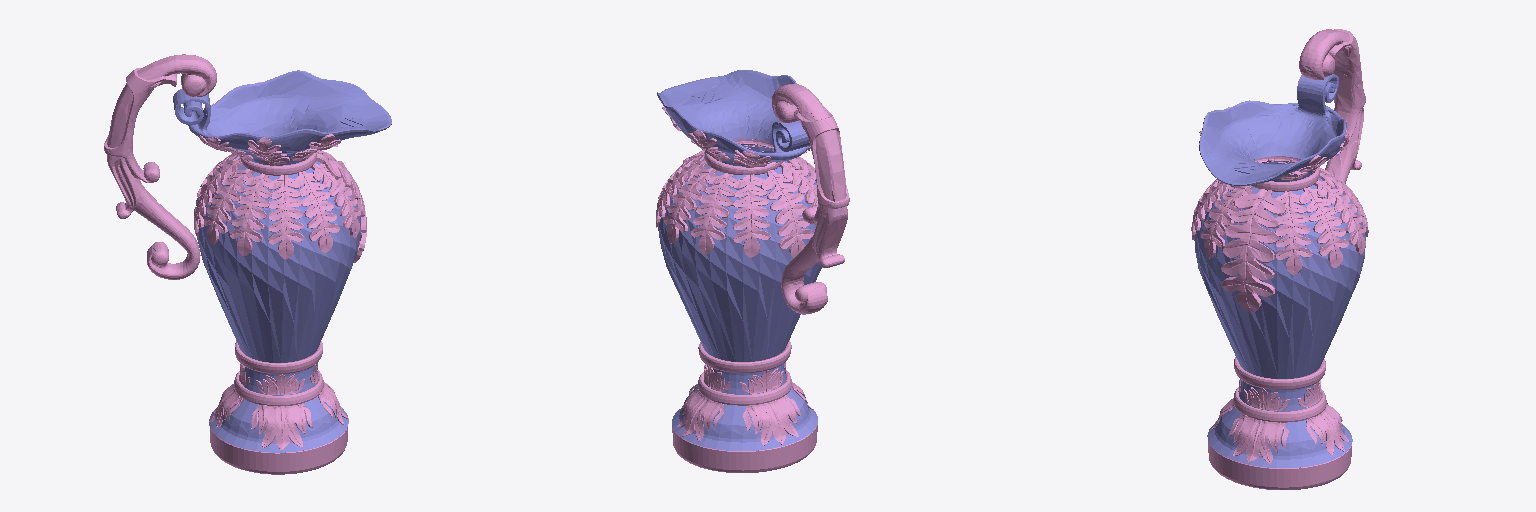
The model's file is excmple.obj.
The picture shows the model from 3 angles: view 1: azimuth 30°, elevation 25°; view 2: azimuth 150°, elevation 25°; view 3: azimuth 270°, elevation 25°; orthographic projection.
Parts seen in each view (by area): view 1: zhuti, xiushi; view 2: xiushi, zhuti; view 3: zhuti, xiushi.
Boxes of the visible parts, x1=… form: zhuti: x1=173, y1=70, x2=391, y2=452; xiushi: x1=104, y1=54, x2=371, y2=474; xiushi: x1=656, y1=84, x2=849, y2=472; zhuti: x1=657, y1=70, x2=821, y2=450; zhuti: x1=1194, y1=74, x2=1365, y2=467; xiushi: x1=1191, y1=29, x2=1368, y2=489.
Bounding box in the file's own units: 111 × 181 × 74.16.